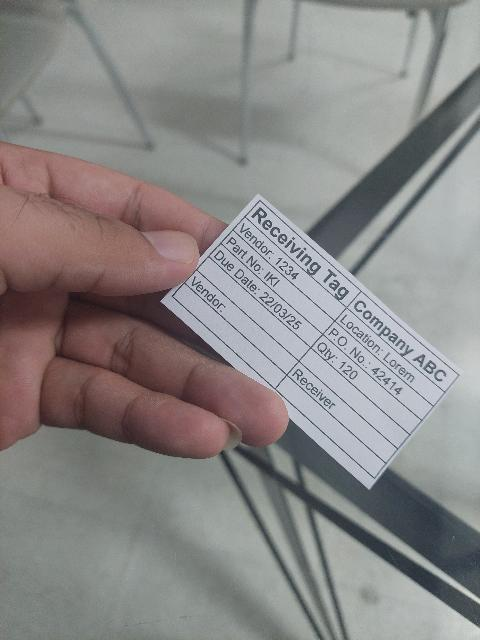PO no: (322, 320, 434, 419)
part no: (219, 230, 335, 334)
qty: (311, 334, 422, 432)
tags: (161, 196, 461, 489)
